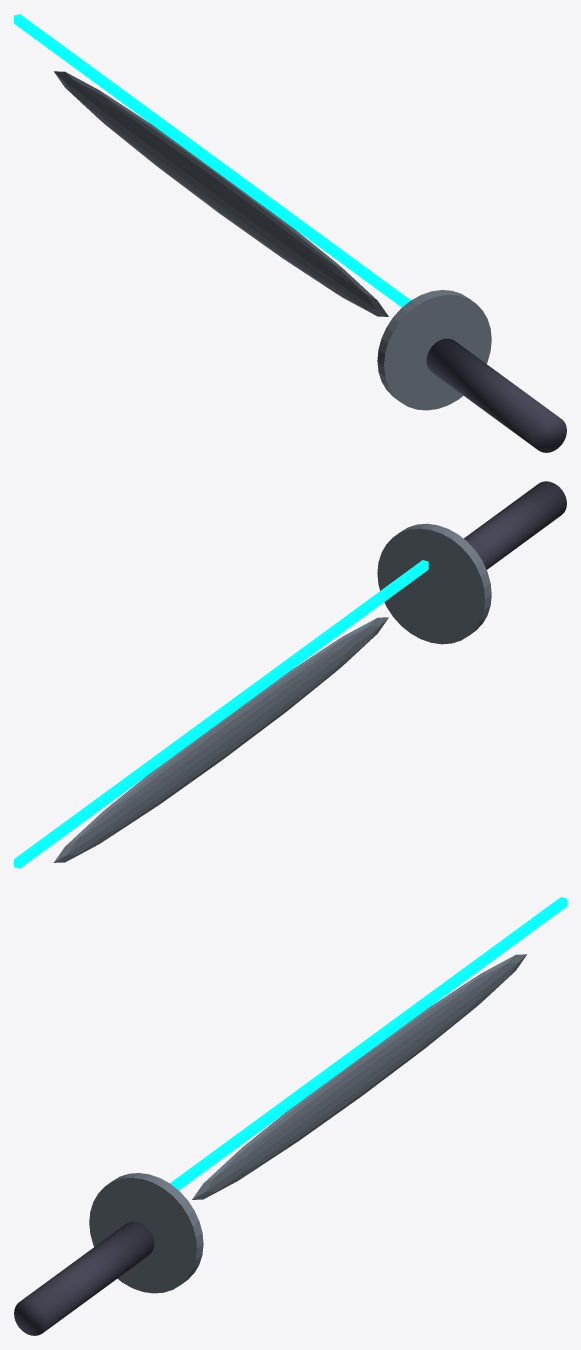
File: cyber_katana.glb
The picture shows the model from 3 angles, top to bottom: view 1: azimuth 30°, elevation 25°; view 2: azimuth 150°, elevation 25°; view 3: azimuth 330°, elevation 25°; orthographic projection.
Parts seen in each view (by area): view 1: Cube, Cylinder, Cylinder.001, Cube.001; view 2: Cube, Cylinder, Cube.001, Cylinder.001; view 3: Cube, Cylinder, Cylinder.001, Cube.001.
Part boxes in pixels (x1,y1,x2,y2): Cube: (54, 71, 388, 316); Cylinder: (377, 290, 491, 410); Cylinder.001: (426, 338, 566, 452); Cube.001: (14, 14, 410, 307); Cube: (54, 617, 388, 862); Cylinder: (377, 523, 491, 644); Cube.001: (14, 560, 428, 868); Cylinder.001: (464, 481, 566, 569); Cube: (192, 954, 526, 1199); Cylinder: (89, 1173, 203, 1293); Cylinder.001: (14, 1221, 154, 1335); Cube.001: (170, 897, 566, 1190).
Size of the model in its own units: 0.14 by 0.14 by 1.2.
